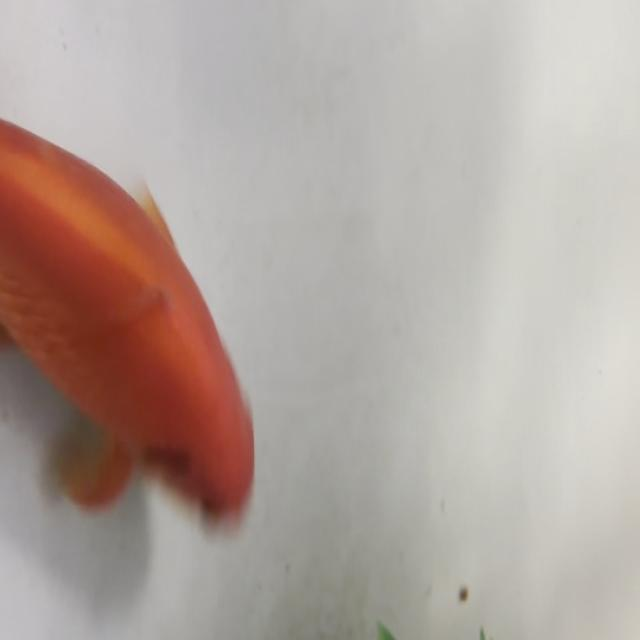fish: (0, 90, 249, 527)
